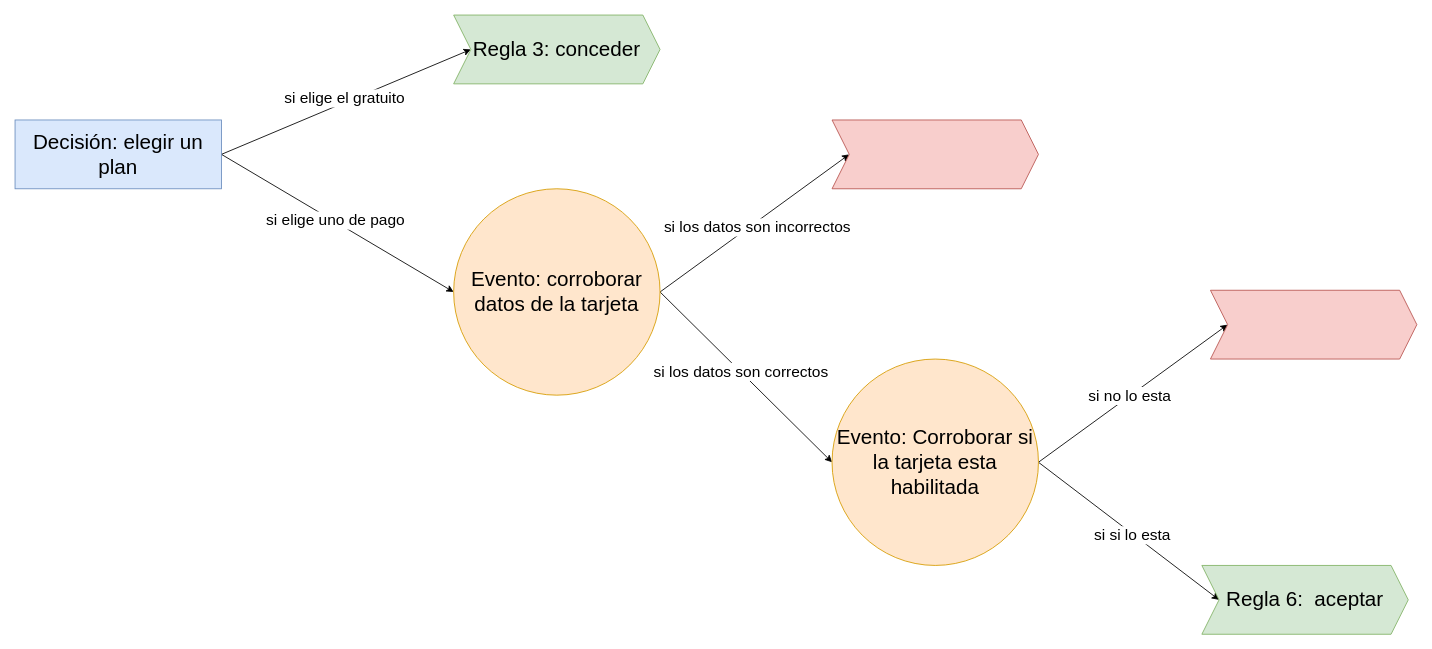
This 1432x649 diagram has some shape labels left out. The centre of each missing label's shape, as x and y in pixels:
"Regla 4: rechazar" goes at (934,154).
"Regla 5: rechazar" goes at (1313,324).
